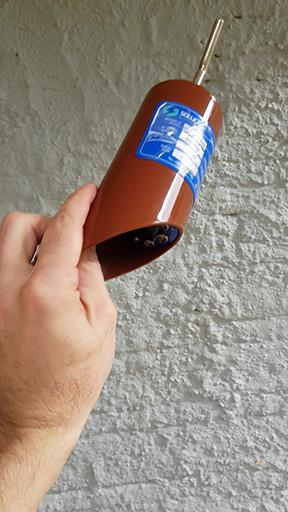Detector_Tensao_Contato: (78, 16, 226, 282)
